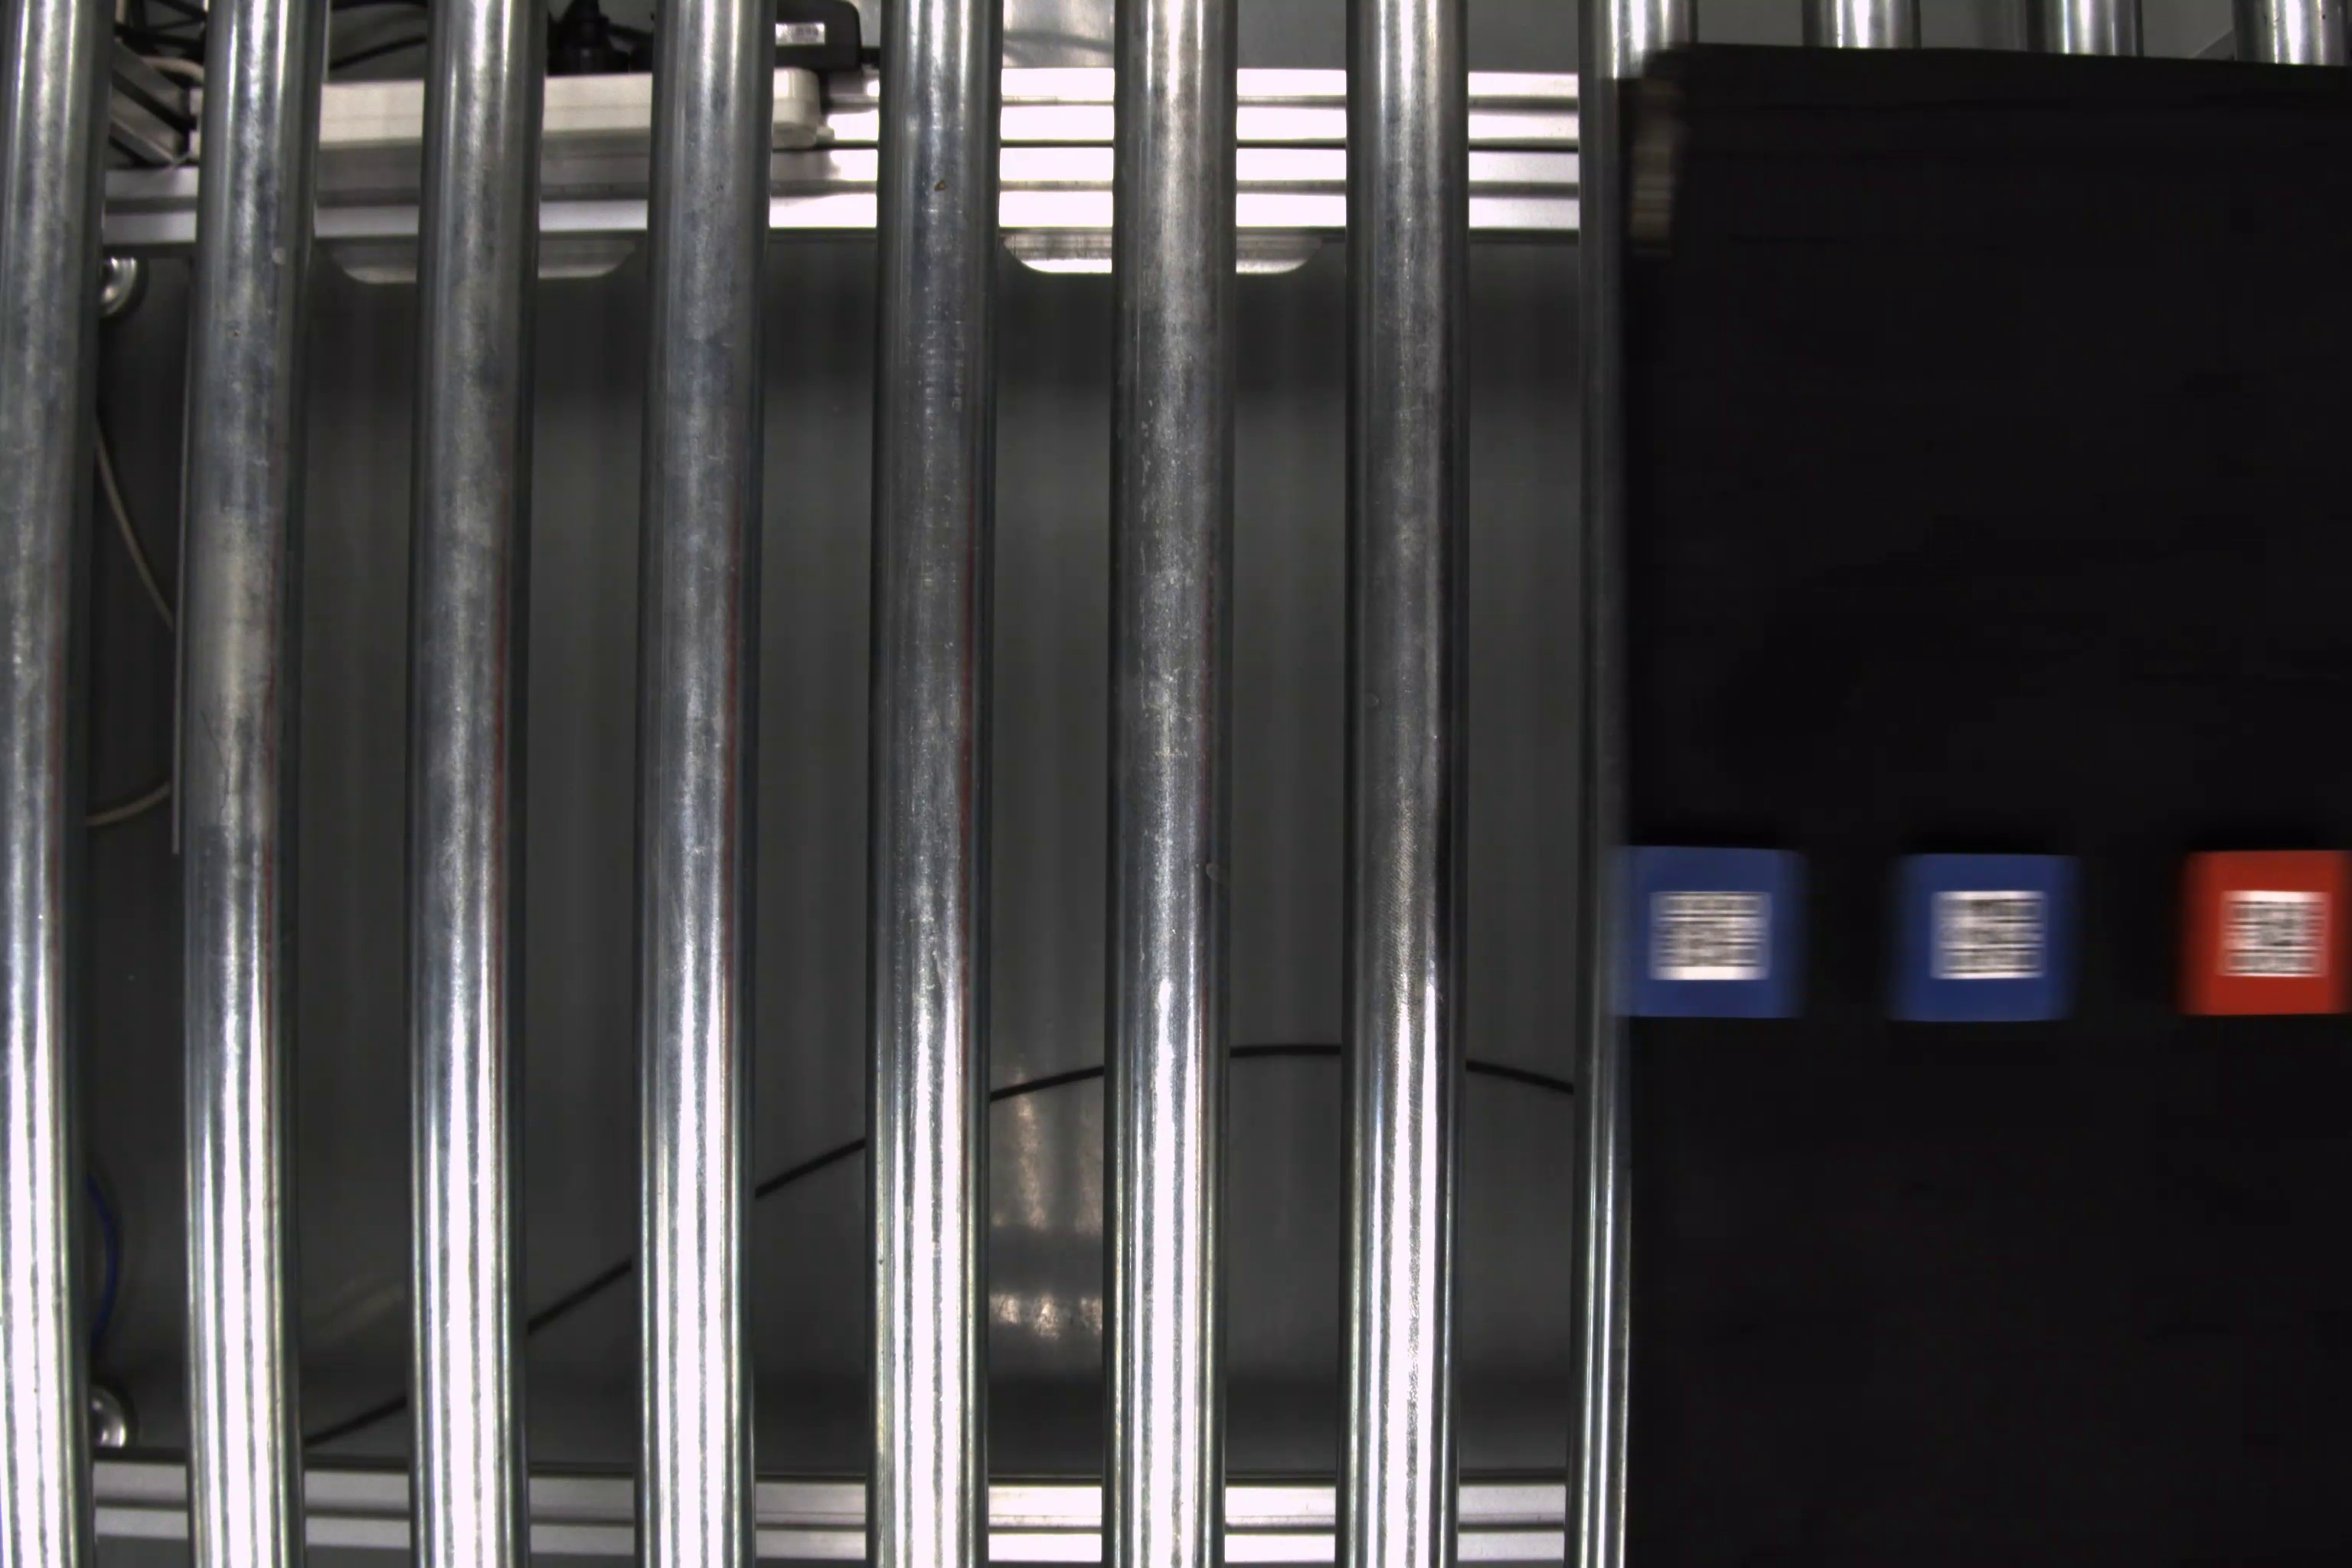wood: (1603, 840, 1806, 1013), (1888, 849, 2084, 1027), (2180, 854, 2348, 1022)
